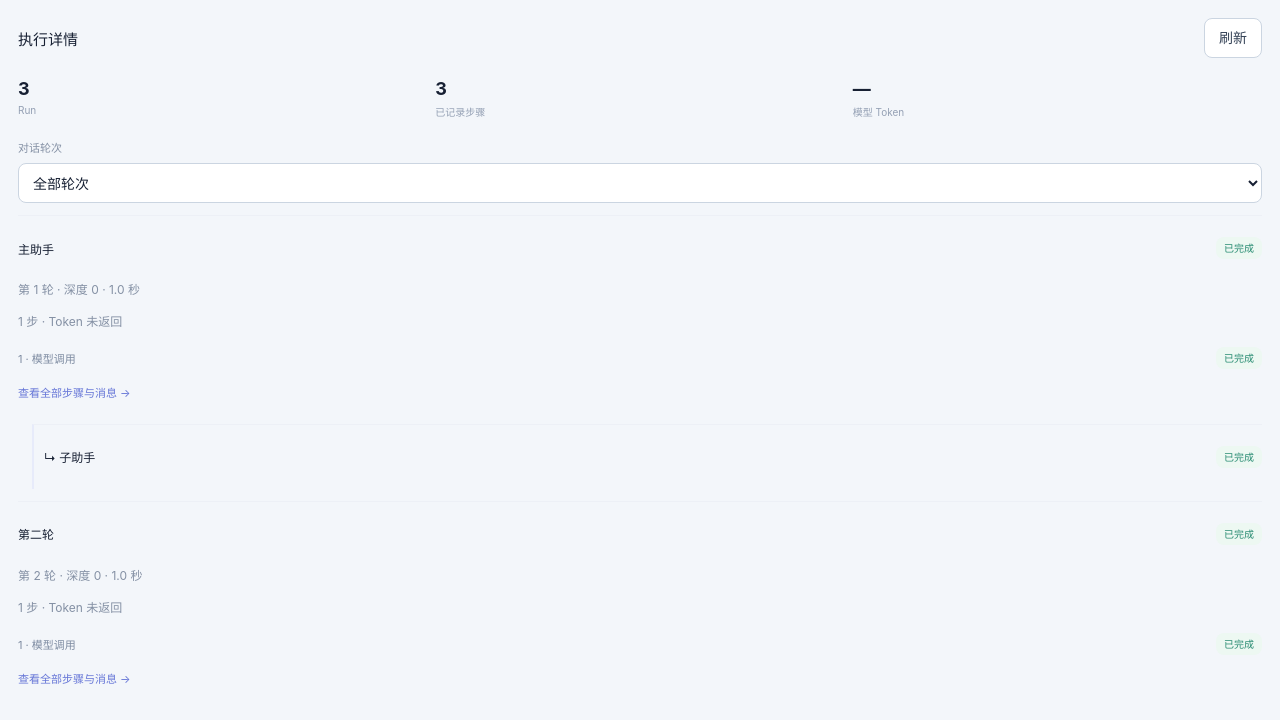
orders child runs under their parent and filters by conversation turn
This screenshot has width=1280, height=720.
Select "第 2 轮" in the dropdown labelled "对话轮次" at (640, 183), box [18,163,1262,203]
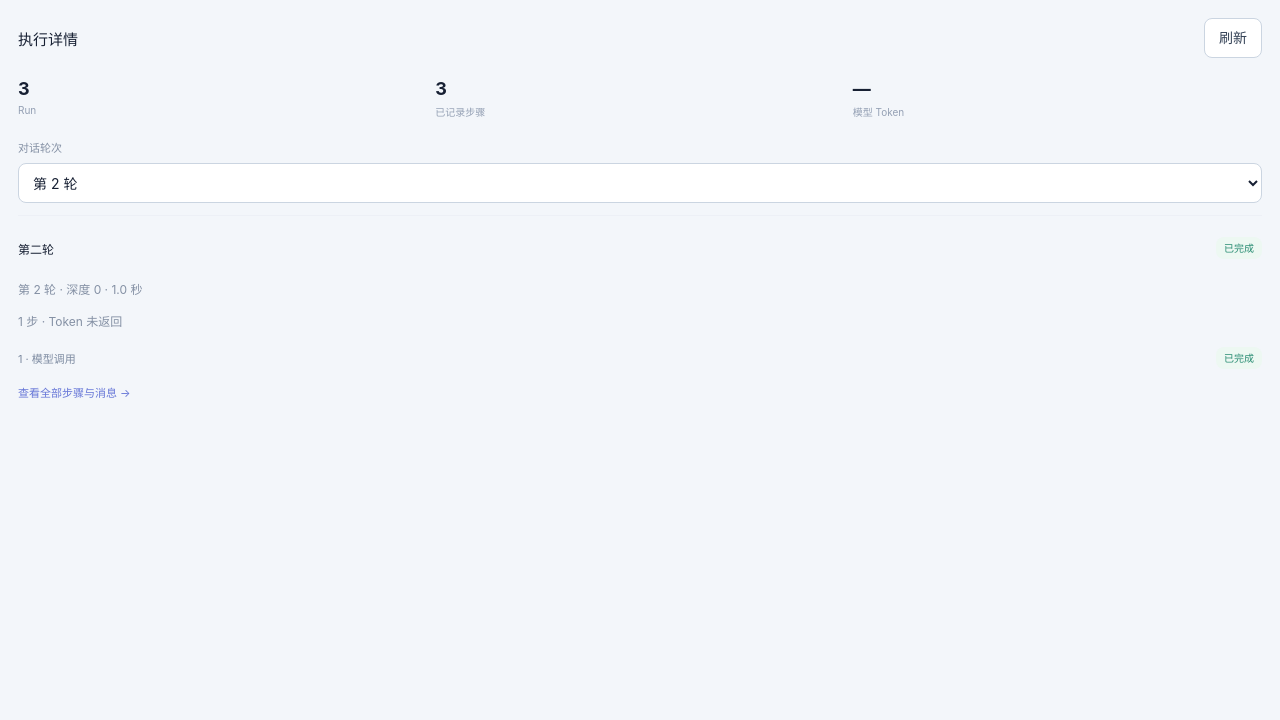
expect the text "第二轮" is shown: met, box [18,240,54,256]
expect the number of elements with class "execution-node" is 1: met, box [18,215,1262,412]
expect the text "子助手" is gone: met
